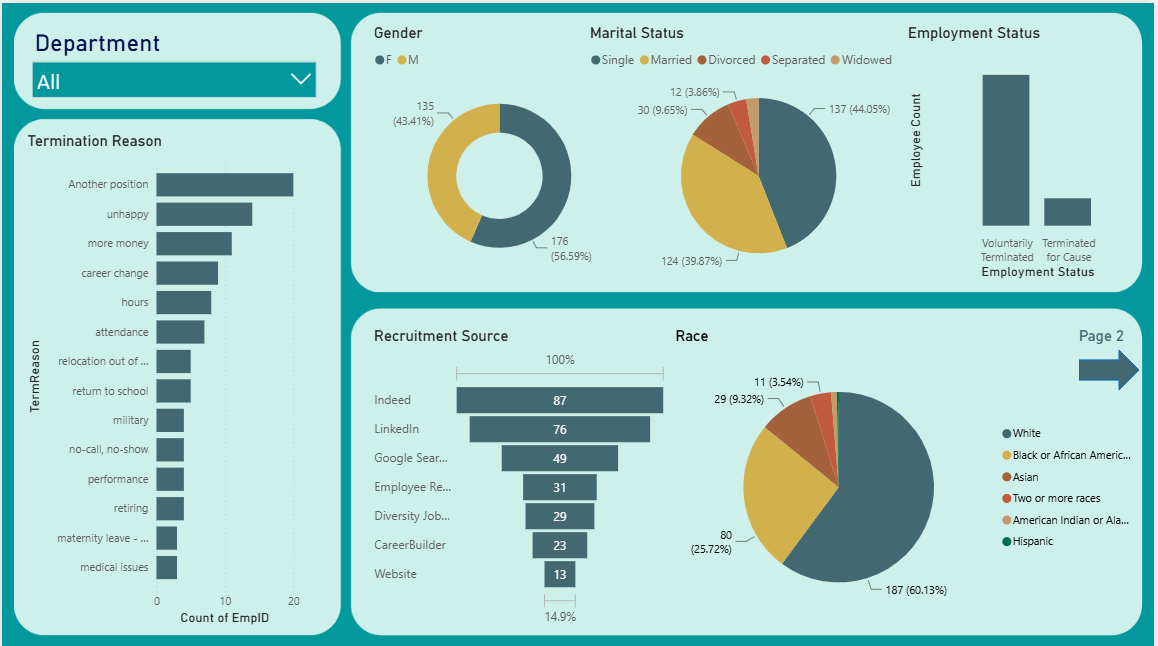

The page's visual inventory and layout, read from the dashboard file:
{"tool":"powerbi","page":{"name":"Page 1","canvas":[1280,720],"ordinal":0},"visuals":[{"type":"slicer","fields":{"Values":["HRDataset.Department"]},"box":[24,24,336,96],"z":0},{"type":"barChart","title":"Termination Reason","fields":{"Category":["HRDataset.TermReason"],"Y":["CountNonNull(HRDataset.EmpID)"]},"box":[24,144,312,552],"z":1000},{"type":"donutChart","title":"Gender","fields":{"Y":["CountNonNull(HRDataset.EmpID)"],"Category":["HRDataset.Sex"]},"box":[408,24,288,288],"z":2000},{"type":"pieChart","title":"Marital Status","fields":{"Y":["CountNonNull(HRDataset.EmpID)"],"Category":["HRDataset.MaritalDesc"]},"box":[648,24,384,288],"z":3000},{"type":"columnChart","title":"Employment Status","fields":{"Category":["HRDataset.EmploymentStatus"],"Y":["CountNonNull(HRDataset.EmpID)"]},"box":[1002.1,22.7,277.5,287.8],"z":4000},{"type":"funnel","title":"Recruitment Source","fields":{"Category":["HRDataset.RecruitmentSource"],"Y":["CountNonNull(HRDataset.EmpID)"]},"box":[408,360,336,336],"z":5000},{"type":"pieChart","title":"Race","fields":{"Y":["CountNonNull(HRDataset.EmpID)"],"Category":["HRDataset.RaceDesc"]},"box":[744,360,528,336],"z":6000},{"type":"shape","title":"Page 2","box":[1196.6,360.6,67.1,70.5],"z":7000}]}

Visuals, with their boxes in screenshot pixels (x1, y1, x2, y2), scaled from the page's 1280x720 canvas onto the 1158x646 screenshot:
slicer - HRDataset.Department: left=22, top=22, right=326, bottom=108
"Termination Reason" barChart: left=22, top=129, right=304, bottom=624
"Gender" donutChart: left=369, top=22, right=630, bottom=280
"Marital Status" pieChart: left=586, top=22, right=934, bottom=280
"Employment Status" columnChart: left=907, top=20, right=1157, bottom=279
"Recruitment Source" funnel: left=369, top=323, right=673, bottom=624
"Race" pieChart: left=673, top=323, right=1151, bottom=624
"Page 2" shape: left=1083, top=324, right=1143, bottom=387
